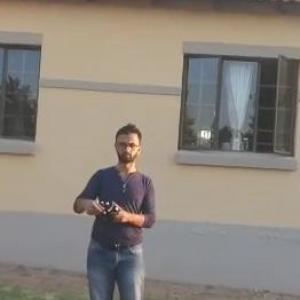follow: (65, 114, 159, 299)
